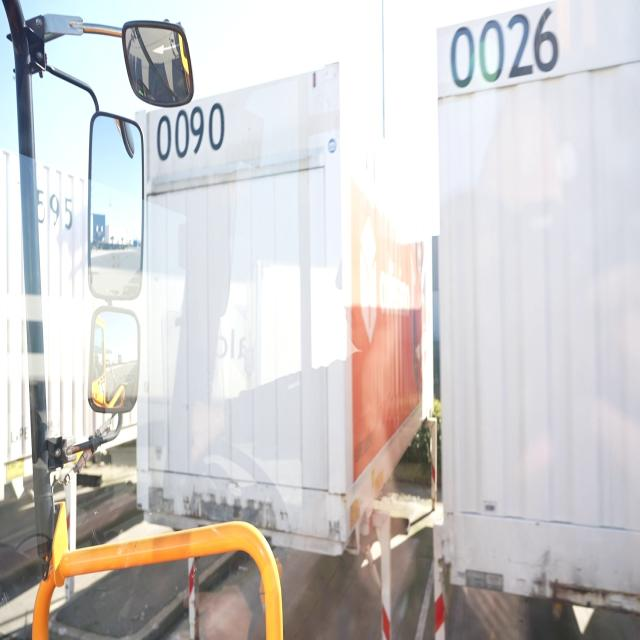Code: (447, 4, 566, 90), (151, 98, 231, 168)
